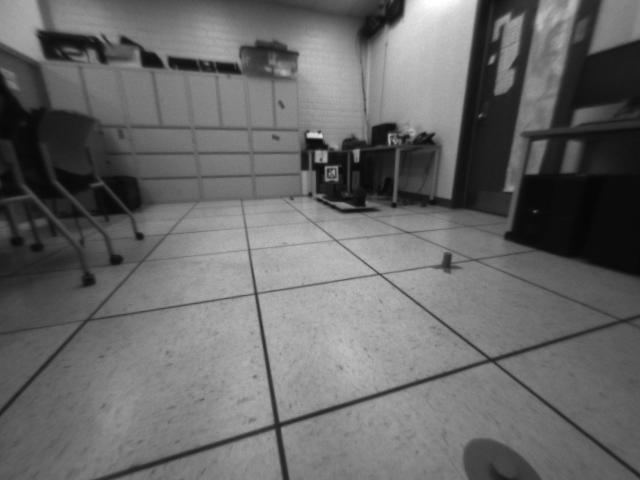X: (429, 251, 463, 275)
